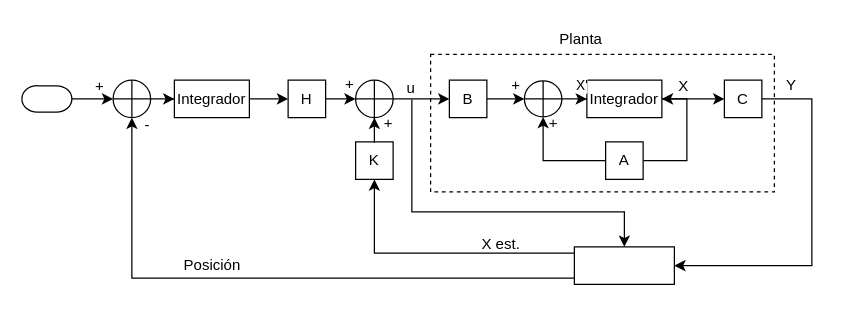
This 844x311 diagram has some shape labels left out. Each missing label, with the centre of its shape:
"Observador" belongs at (623,265).
"Ref." belongs at (46,98).
